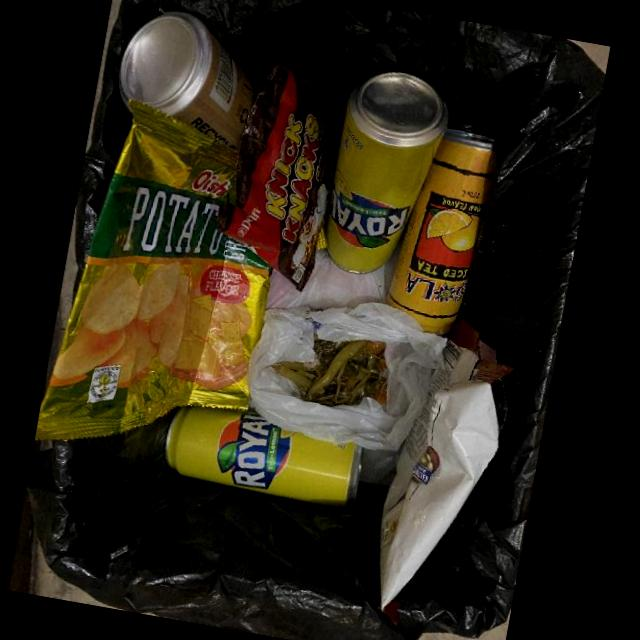bao_bi_thuc_pham: (35, 98, 272, 439), (379, 314, 512, 625), (217, 48, 346, 289)
nhom: (323, 66, 449, 273), (386, 127, 500, 334), (164, 404, 362, 507), (118, 10, 254, 149)
tui_ni_long: (246, 301, 447, 450)
vo_rau_cu: (270, 337, 389, 407)
